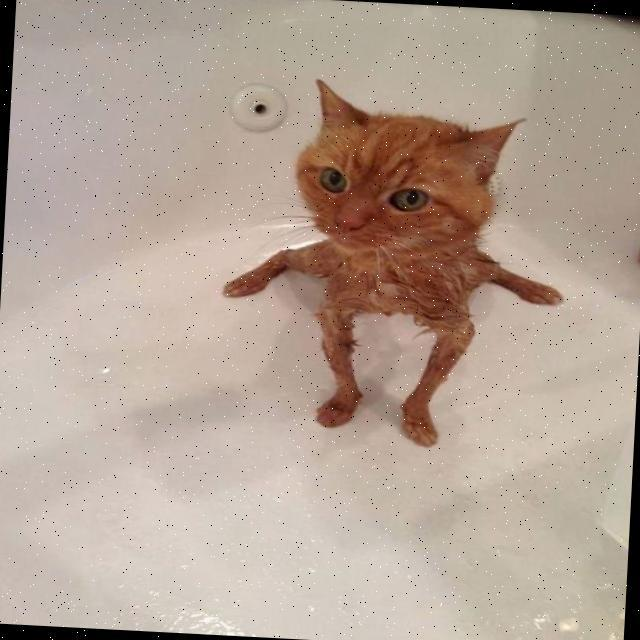Cats: (230, 56, 564, 448)
